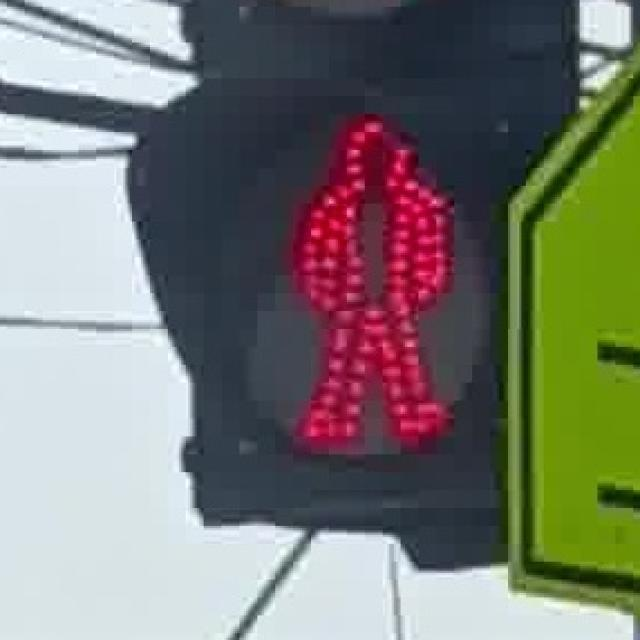red-crossing: (280, 96, 454, 457)
